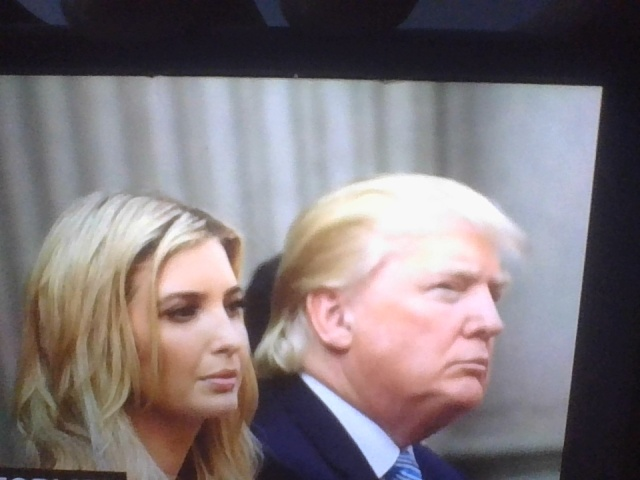fake: (318, 143, 532, 447), (93, 188, 269, 437)
